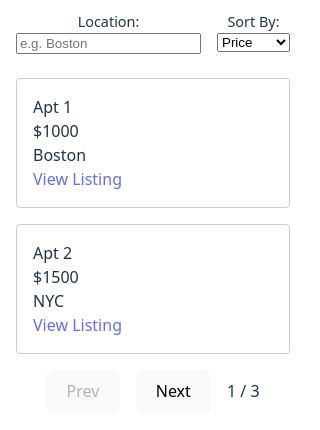
Scenario: App › resets to page 1 when the sort changes while viewing page 2
Click the button "Next" at (173, 391), box [136,370,211,413]
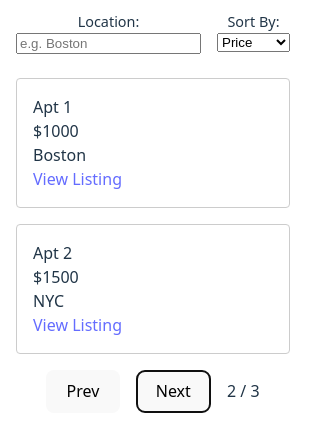
Now the text "2 / 3" is shown, box [227,379,260,403]
Change sort — should snap back to page 1
Select "Location" in the dropdown at (254, 42), box [217,33,290,52]
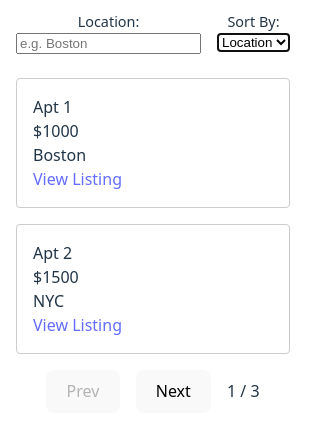
Now the text "1 / 3" is shown, box [227,379,260,403]
